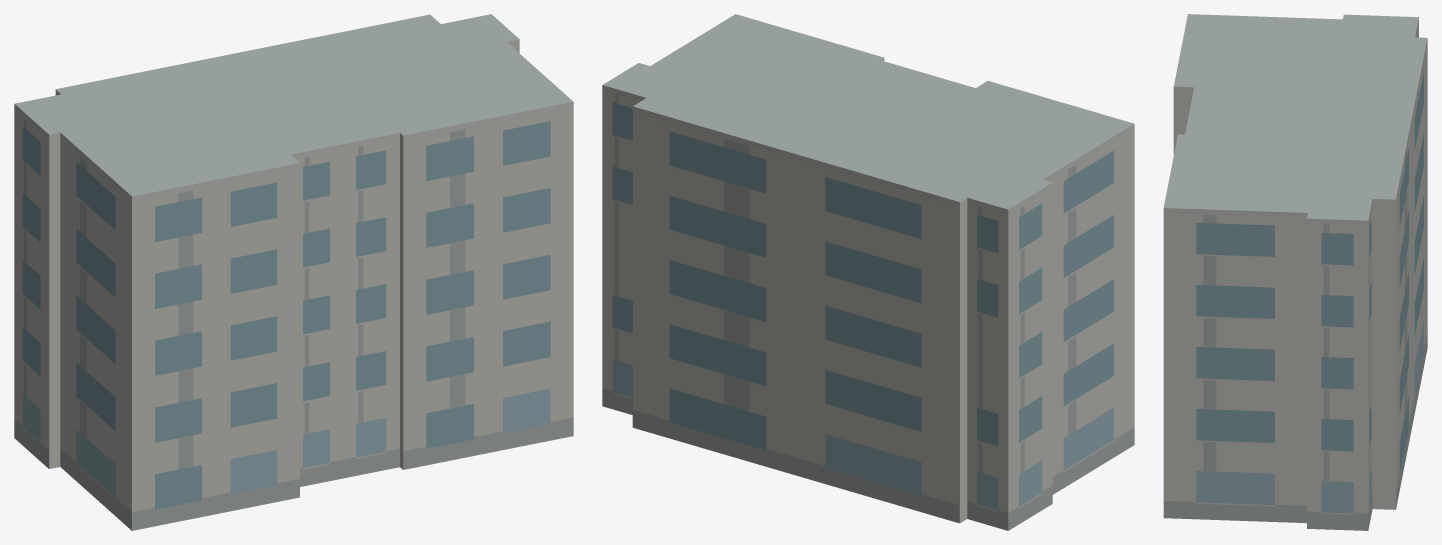
The model's file is survey-upis-32469965.glb.
The picture shows the model from 3 angles, left to right: view 1: azimuth 30°, elevation 25°; view 2: azimuth 150°, elevation 25°; view 3: azimuth 270°, elevation 25°; orthographic projection. The views are drawn at different scales.
Parts seen in each view (by area): view 1: survey-upis-32469965.tmp; view 2: survey-upis-32469965.tmp; view 3: survey-upis-32469965.tmp.
Part boxes in pixels (x1,y1,x2,y2): survey-upis-32469965.tmp: (14, 14, 573, 530); survey-upis-32469965.tmp: (602, 14, 1134, 530); survey-upis-32469965.tmp: (1163, 14, 1427, 530).
Size of the model in its own units: 19.66 by 13.75 by 10.61.
